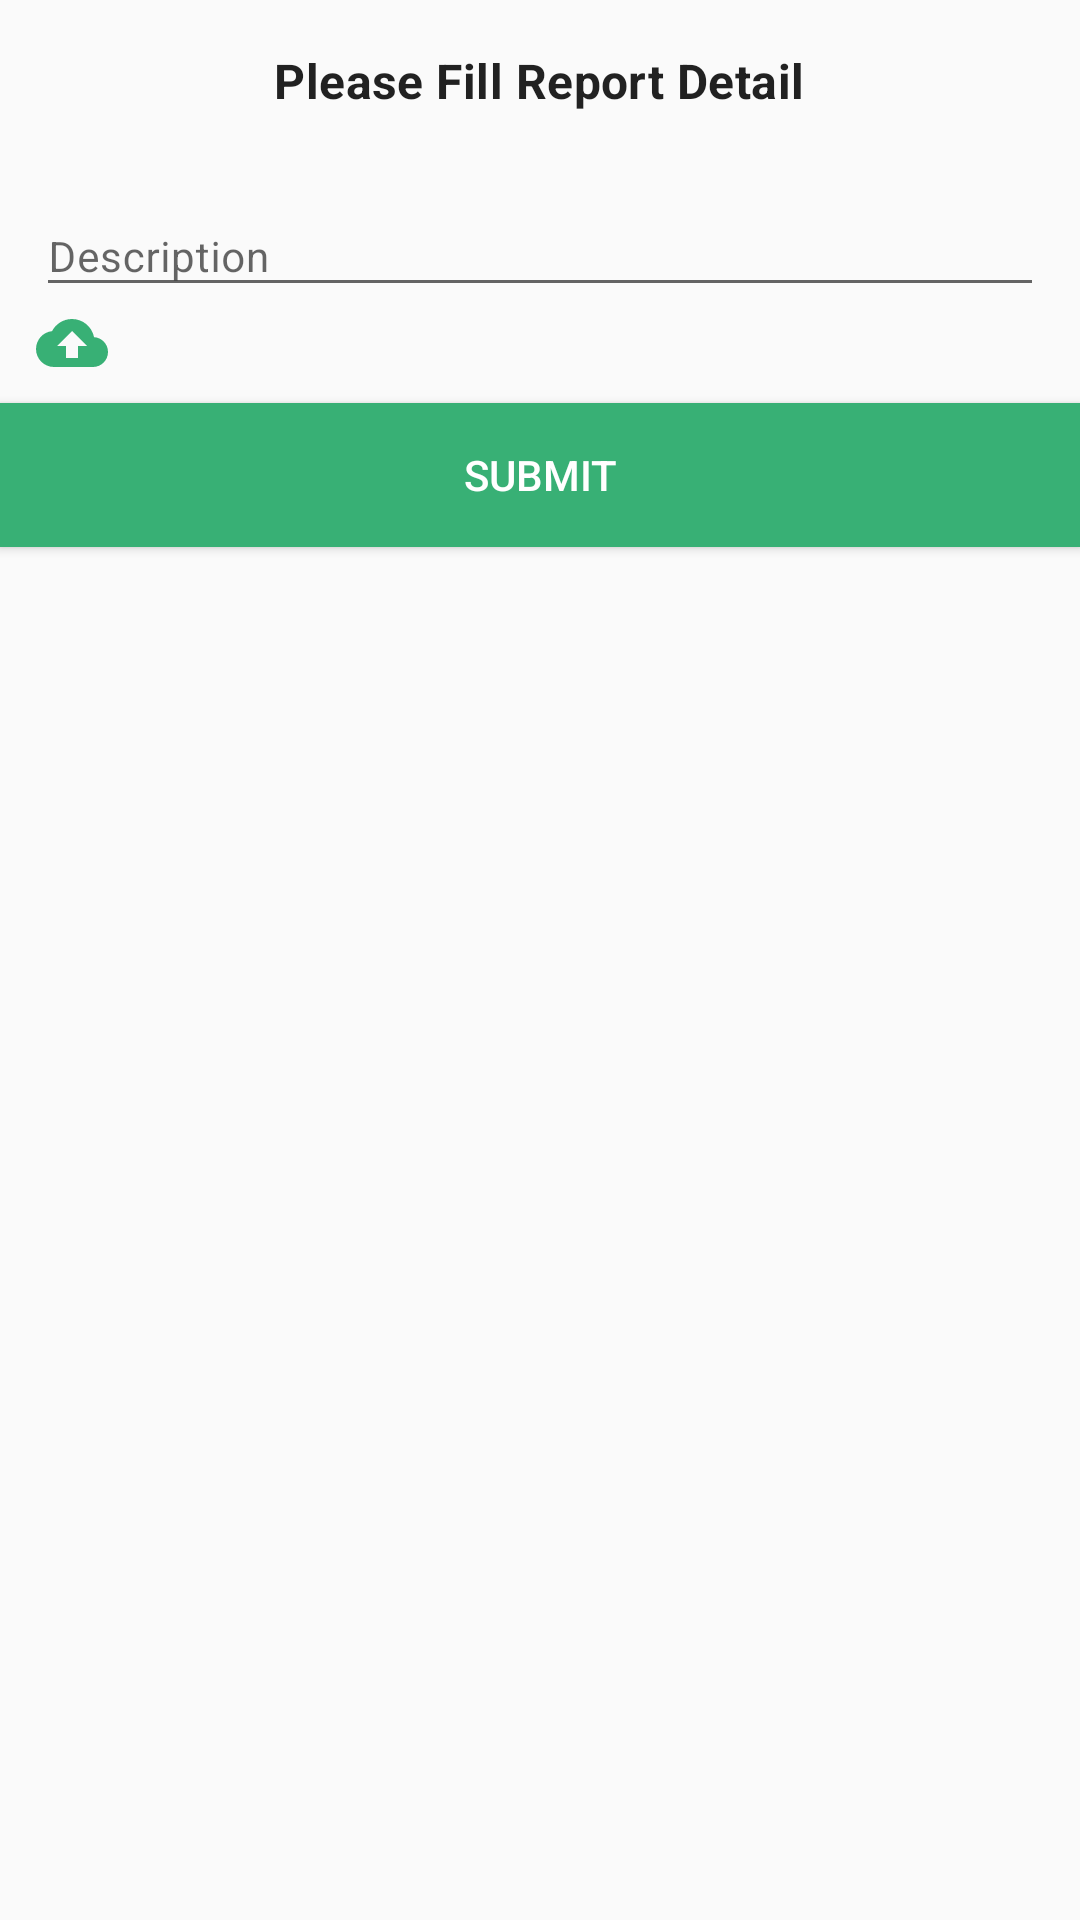

Locate icon controls on the screen. Image size 1080*1920, boxes as bbox=(x1, y1, x2, y2).
cloud upload: bbox=(36, 319, 108, 367)
